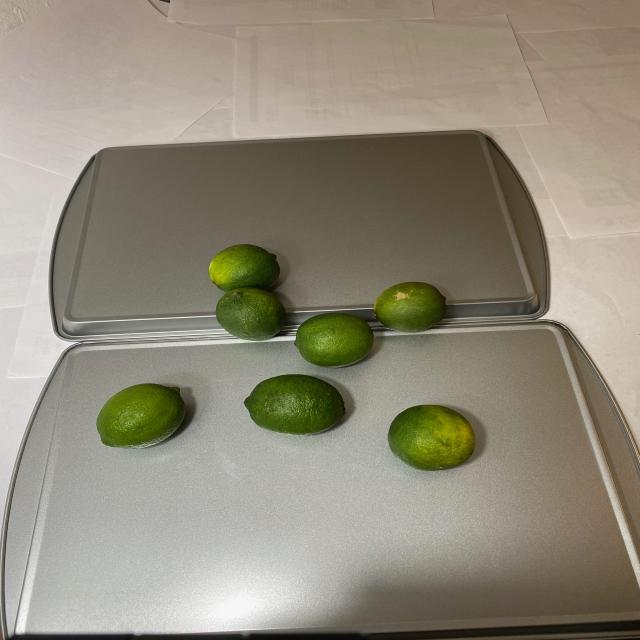lemon: (210, 240, 481, 470), (91, 382, 189, 454)
